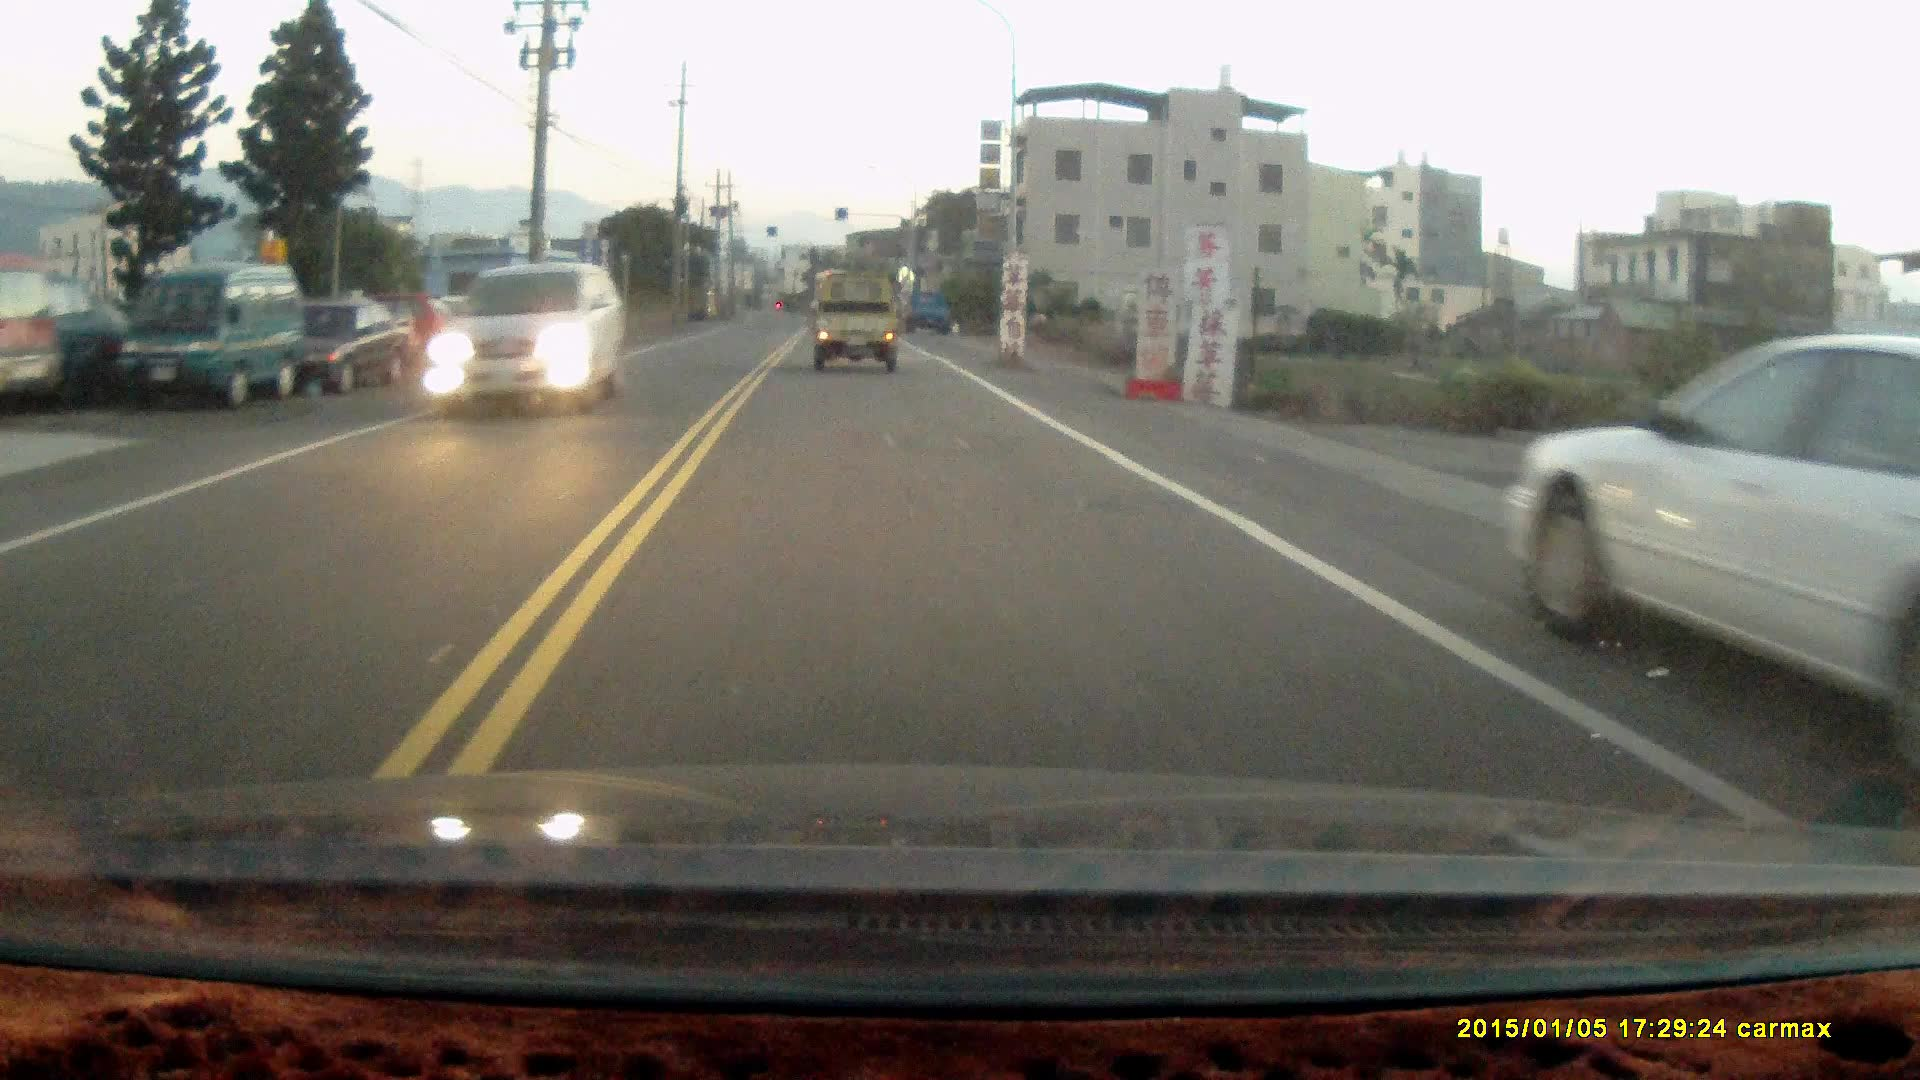vehicle: (1505, 334, 1920, 744), (430, 262, 625, 423), (119, 258, 306, 405), (294, 291, 421, 401), (811, 276, 905, 373), (901, 291, 955, 336)
